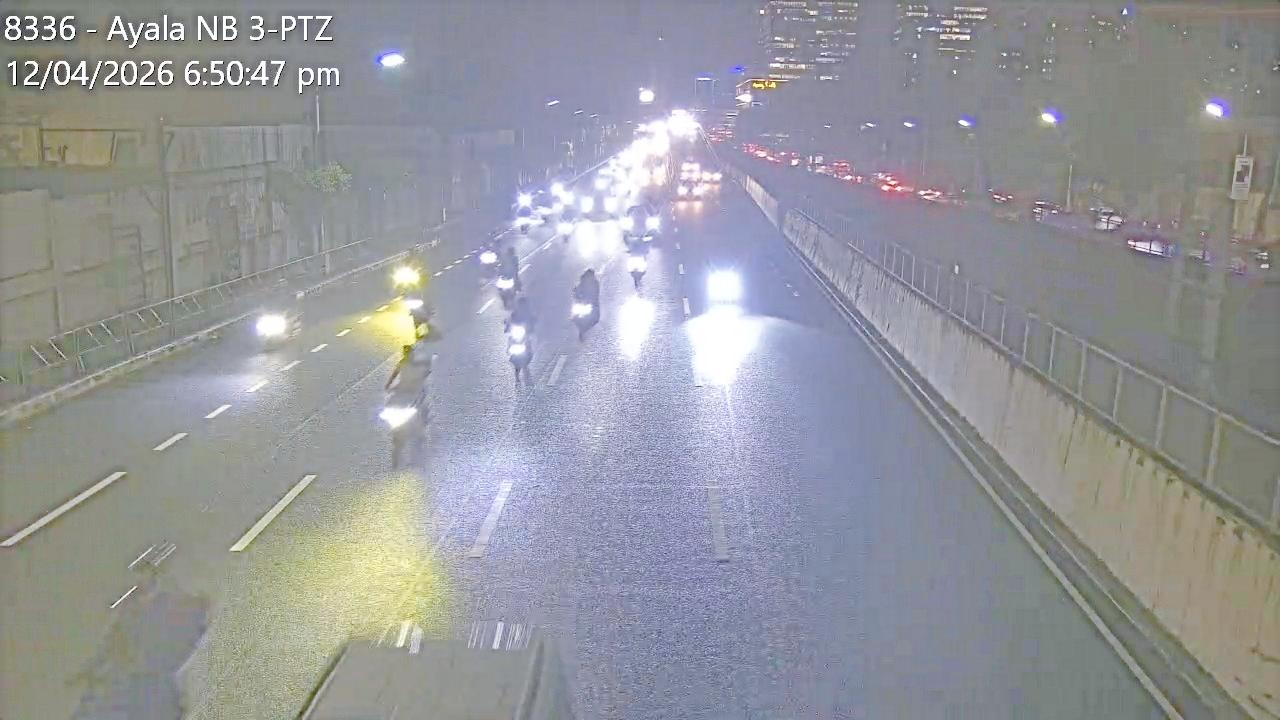Car: (297, 615, 571, 720), (617, 204, 664, 250)
Motor: (66, 537, 208, 720), (250, 270, 314, 358), (381, 359, 434, 464), (499, 312, 533, 383), (495, 242, 526, 307), (410, 283, 438, 333), (569, 286, 599, 331), (476, 234, 503, 282), (399, 258, 425, 298), (625, 249, 647, 293)
Not Accident: (617, 203, 665, 296)
